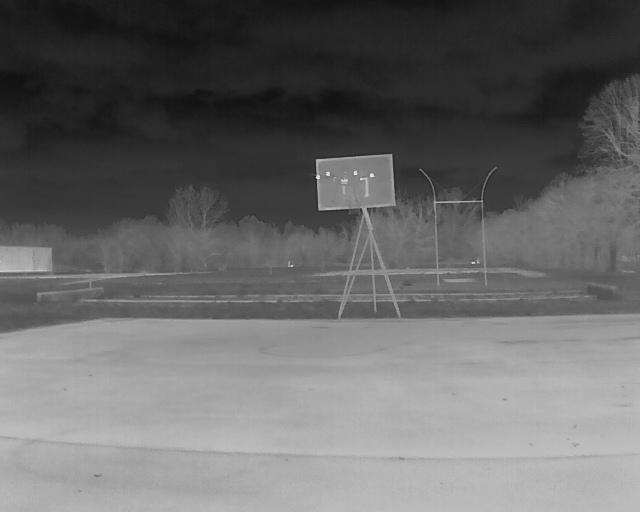drone: (305, 157, 375, 221)
